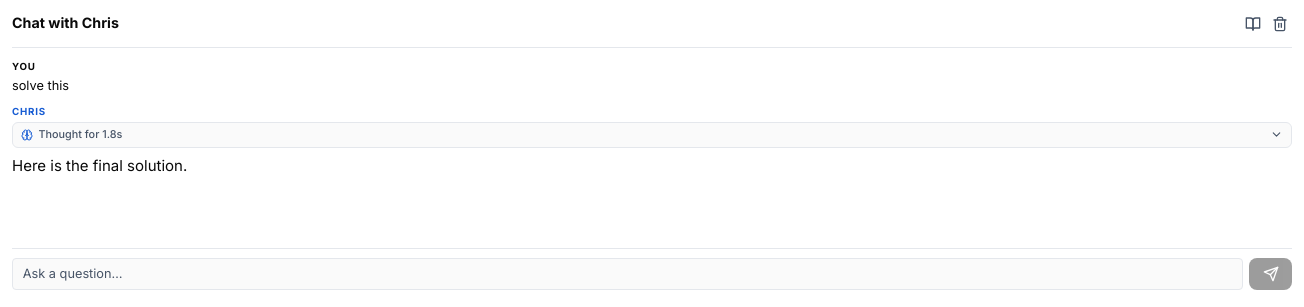
it: ChatPanel › renders dynamic Chain of Thought block and expands on click
This screenshot has width=1304, height=307.
Expected: the text "Thought for 1.8s" is shown, [38,128,122,141]
Step 1. Click the button "Thought for 1.8s" → {"x": 80, "y": 135}, box [13,123,1291,147]
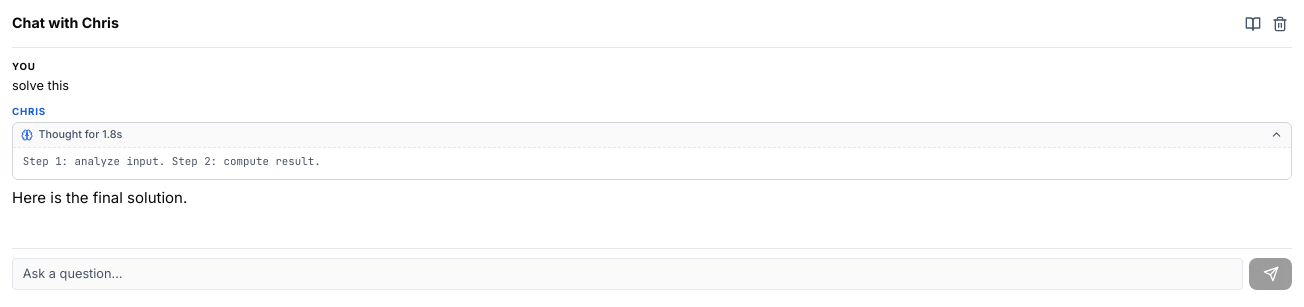
Now the text "Step 1: analyze input. Step 2: compute result." is shown, box [23,154,321,168]
